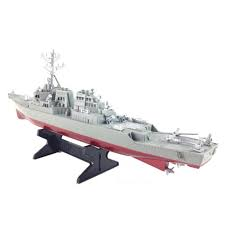tau_muctieu: (6, 66, 216, 171)
